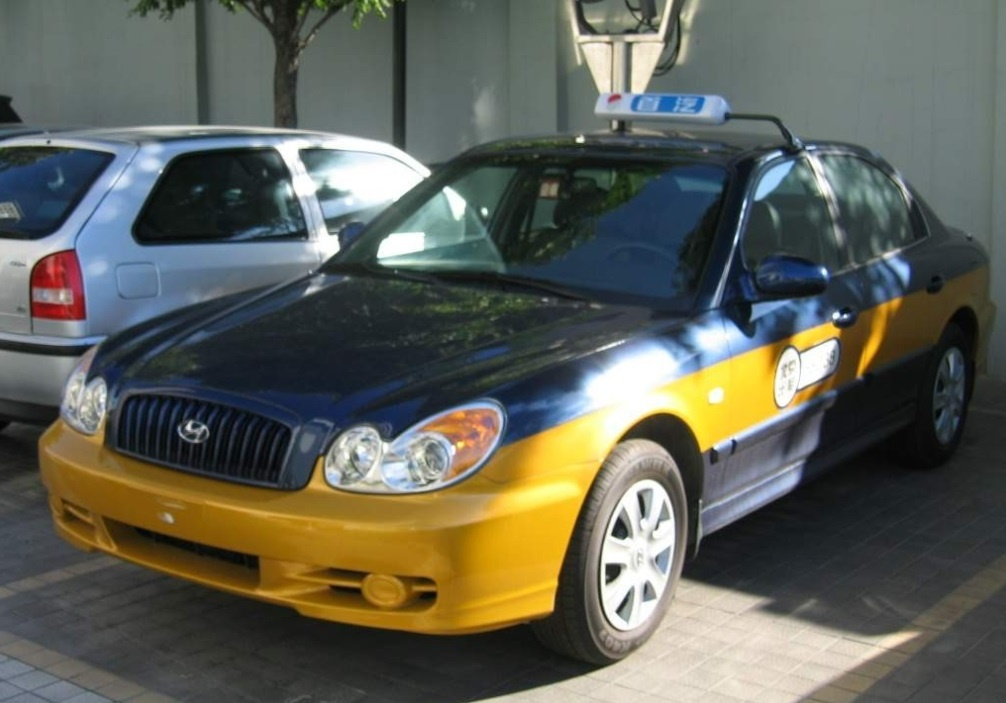taxi: (57, 86, 1001, 661)
